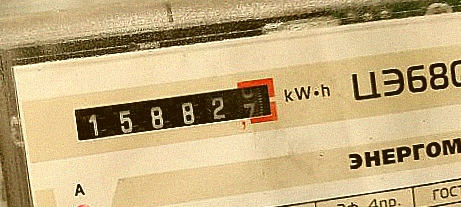1: (86, 110, 101, 137)
2: (208, 94, 228, 121)
5: (116, 107, 134, 135)
7: (240, 99, 257, 118)
8: (147, 103, 166, 130), (179, 99, 197, 125)
screen: (63, 70, 287, 155)
